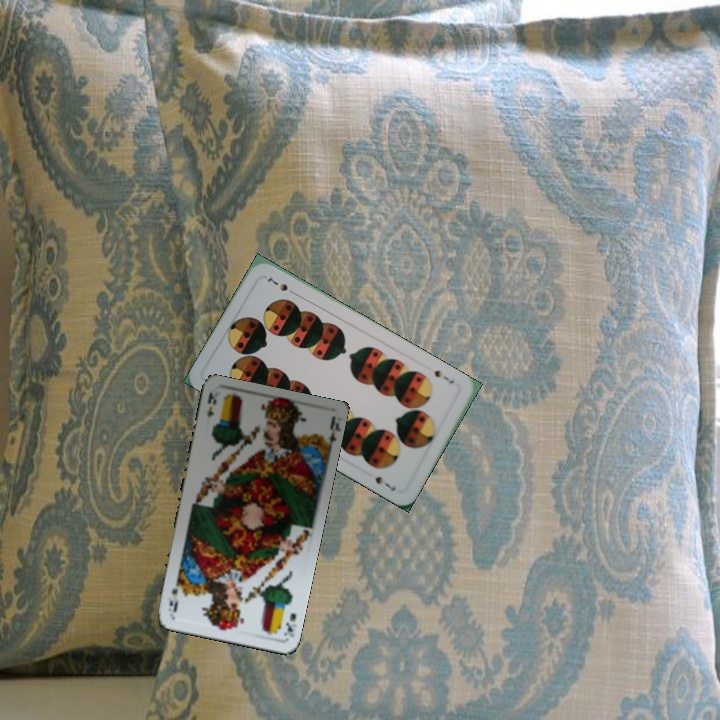EK: (280, 609, 299, 640), (203, 388, 219, 420)
S7: (430, 366, 457, 387)
